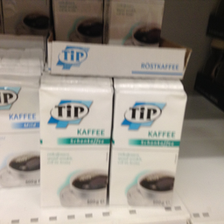coffee: (109, 78, 187, 207), (38, 78, 113, 207), (106, 2, 165, 46), (53, 2, 104, 43)
